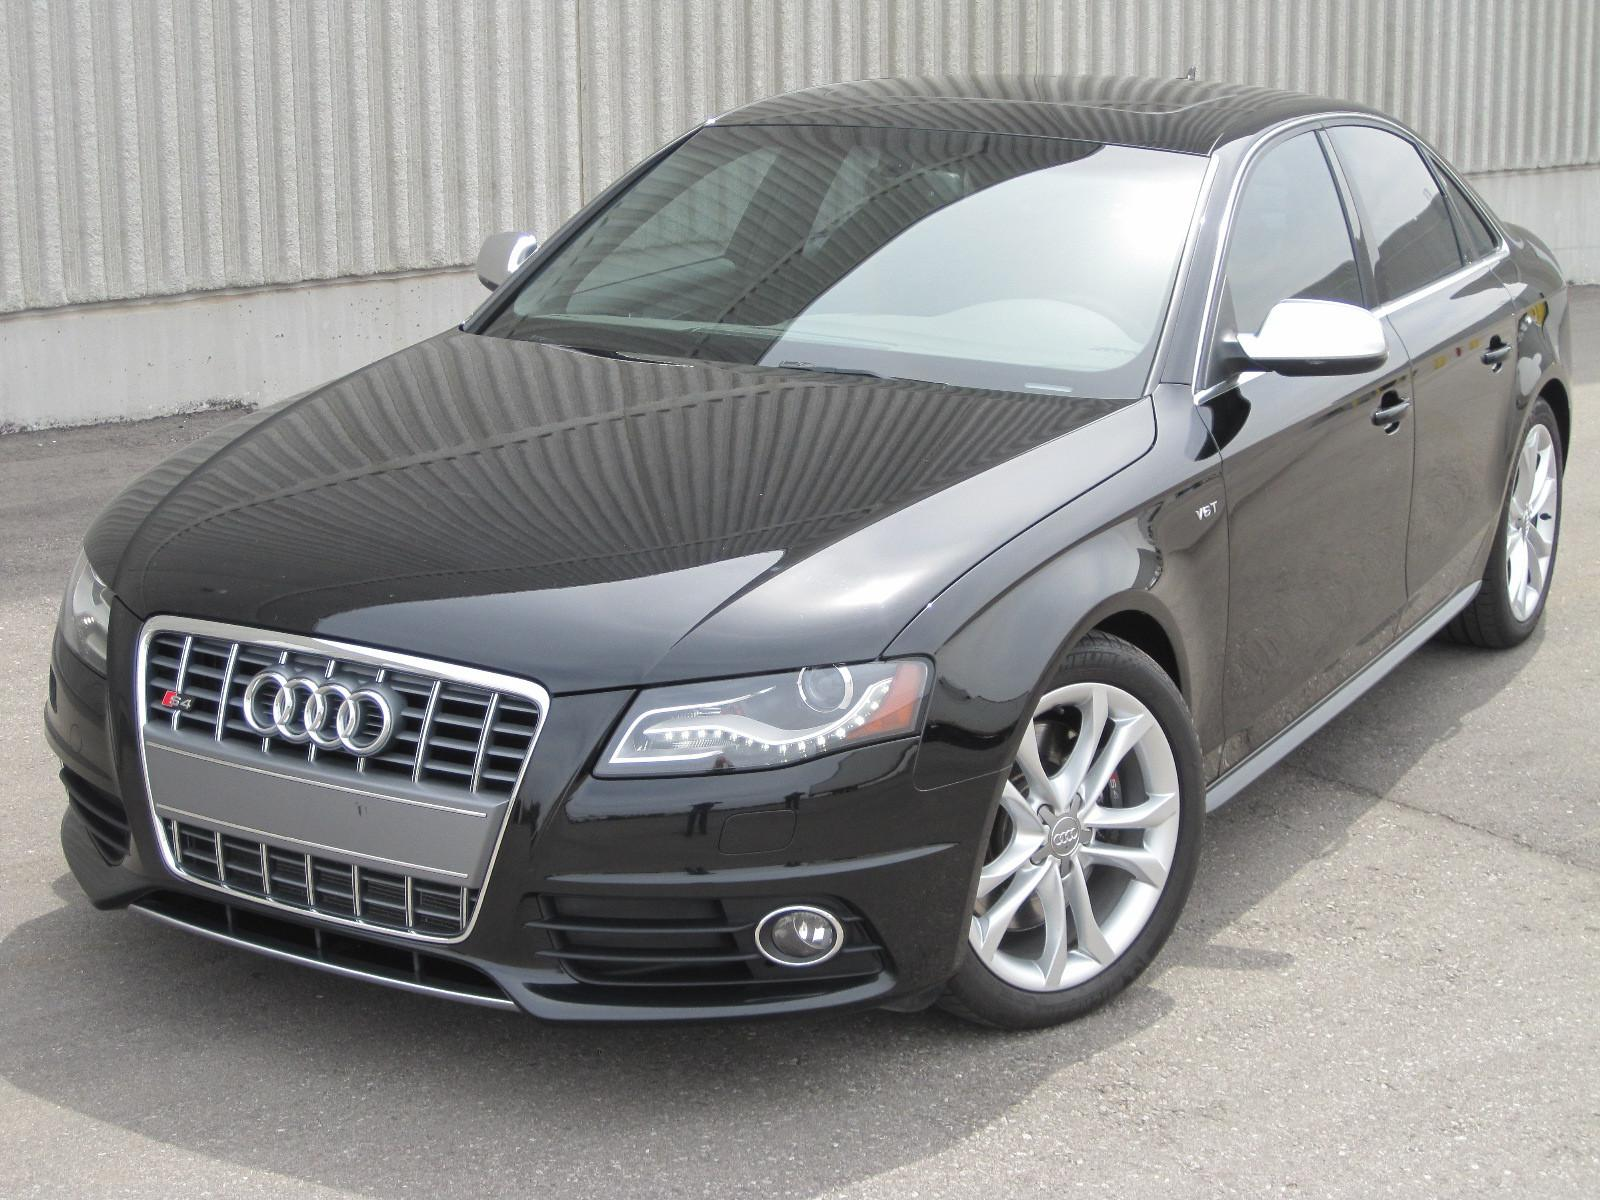Car: (45, 42, 1600, 1082)
